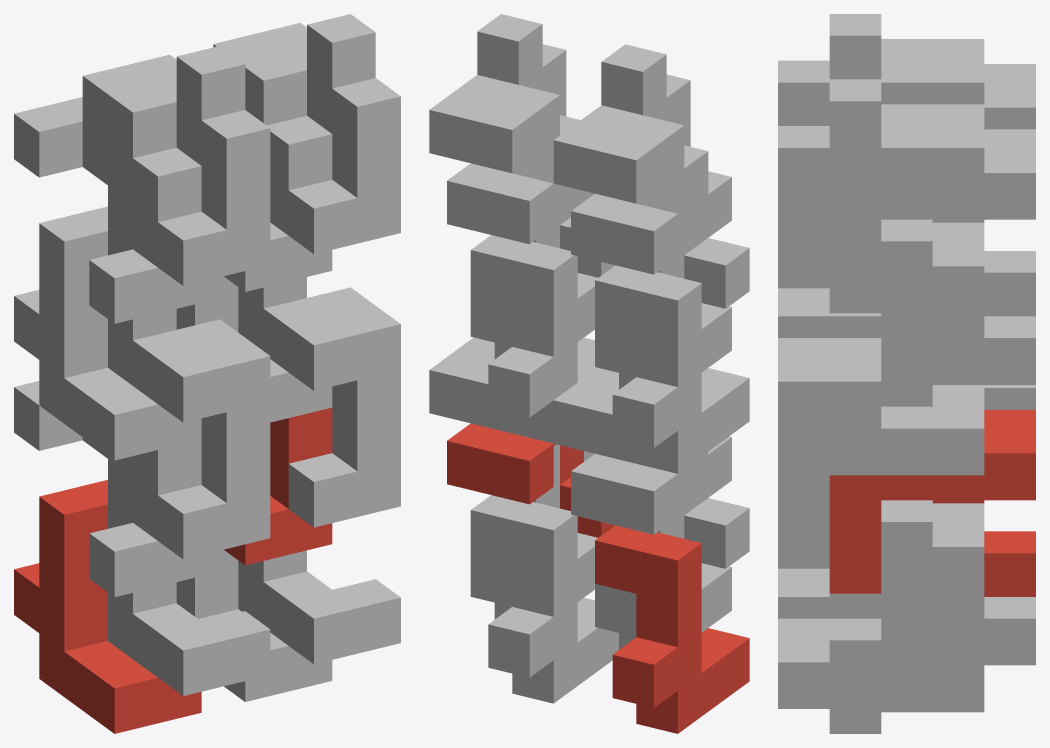
Rendered from tiling.obj.
3 views of the same model, side by side, from view 1: azimuth 30°, elevation 25°; view 2: azimuth 150°, elevation 25°; view 3: azimuth 270°, elevation 25° (orthographic). The views are drawn at different scales.
Parts seen in each view (by area): view 1: copy_2_domain_4, copy_2_domain_3, copy_2_domain_8, copy_1_domain_3, copy_1_domain_1, copy_2_domain_2, copy_2_domain_6, copy_1_domain_4, copy_1_domain_2, copy_2_domain_1, copy_1_domain_6, copy_1_domain_8 (+4 smaller); view 2: copy_1_domain_1, copy_1_domain_3, copy_1_domain_5, copy_1_domain_7, copy_2_domain_3, copy_2_domain_4, copy_2_domain_8, copy_2_domain_1, copy_2_domain_7, copy_2_domain_5, copy_2_domain_2, copy_2_domain_6 (+4 smaller); view 3: copy_2_domain_8, copy_2_domain_6, copy_1_domain_6, copy_1_domain_8, copy_1_domain_5, copy_2_domain_7, copy_2_domain_5, copy_2_domain_4, copy_1_domain_7, copy_2_domain_3, copy_1_domain_2, copy_1_domain_1 (+4 smaller).
Boxes of the visible parts, x1,y1,x2,y2 form: copy_2_domain_4: (82, 46, 270, 285); copy_2_domain_3: (14, 83, 201, 323); copy_2_domain_8: (213, 14, 400, 253); copy_1_domain_3: (14, 206, 201, 460); copy_1_domain_1: (14, 480, 201, 733); copy_2_domain_2: (158, 319, 270, 559); copy_2_domain_6: (288, 287, 400, 527); copy_1_domain_4: (108, 186, 270, 422); copy_1_domain_2: (108, 459, 270, 695); copy_2_domain_1: (14, 381, 201, 597); copy_1_domain_6: (238, 550, 400, 664); copy_1_domain_8: (238, 277, 400, 390); copy_1_domain_1: (595, 525, 749, 733); copy_1_domain_3: (595, 265, 749, 473); copy_1_domain_5: (470, 495, 618, 703); copy_1_domain_7: (470, 235, 597, 443); copy_2_domain_3: (571, 115, 749, 308); copy_2_domain_4: (553, 44, 731, 237); copy_2_domain_8: (429, 14, 594, 201); copy_2_domain_1: (571, 452, 749, 568); copy_2_domain_7: (447, 85, 614, 277); copy_2_domain_5: (447, 423, 614, 537); copy_2_domain_2: (553, 368, 731, 497); copy_2_domain_6: (429, 337, 594, 461); copy_2_domain_8: (778, 79, 984, 288); copy_2_domain_6: (778, 360, 984, 568); copy_1_domain_6: (778, 500, 984, 708); copy_1_domain_8: (778, 219, 984, 428); copy_1_domain_5: (829, 503, 1035, 733); copy_2_domain_7: (829, 104, 1035, 313); copy_2_domain_5: (829, 410, 1035, 593); copy_2_domain_4: (778, 14, 984, 125); copy_1_domain_7: (932, 222, 1035, 384); copy_2_domain_3: (881, 39, 1035, 129); copy_1_domain_2: (778, 568, 881, 618); copy_1_domain_1: (932, 500, 1035, 596).
Size of the model in its own units: 6 by 14 by 5.
